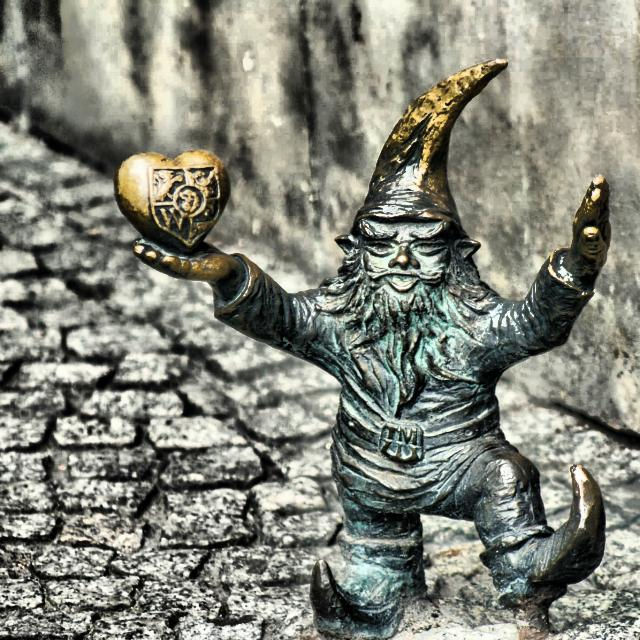WrocLovek: (116, 58, 614, 640)
